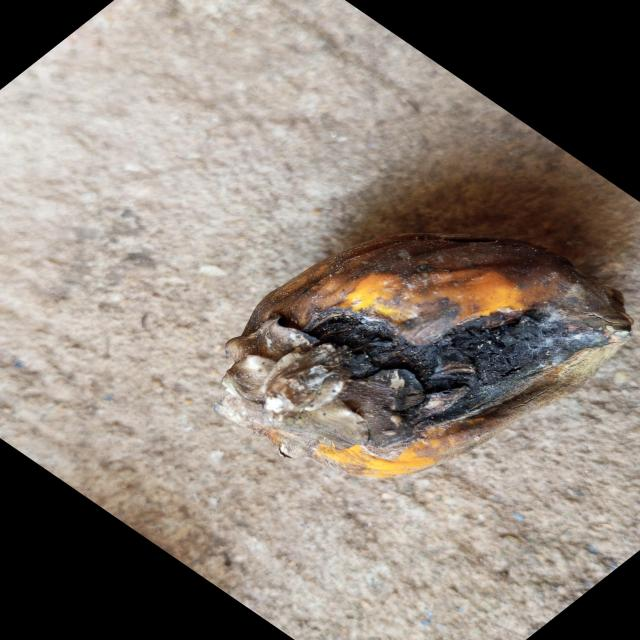damaged: (215, 235, 632, 477)
